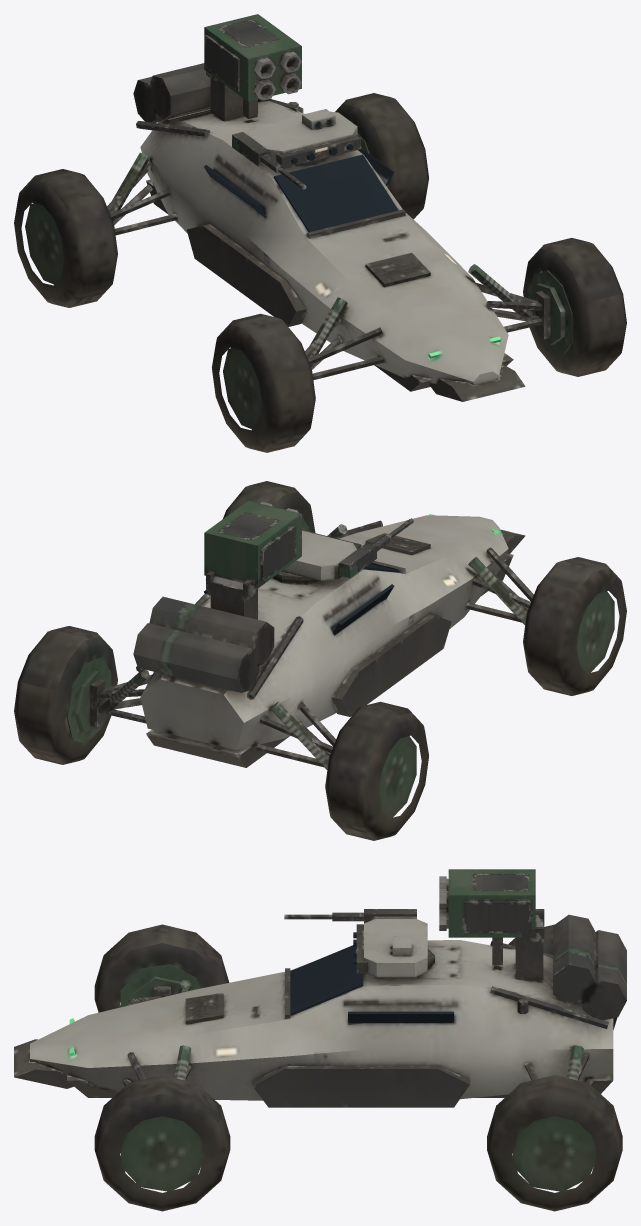
File: hs_jackal_lod1.glb
3 views of the same model, one above another, from view 1: azimuth 30°, elevation 25°; view 2: azimuth 150°, elevation 25°; view 3: azimuth 270°, elevation 25° (orthographic).
Bounding box in the file's own units: 3.86 × 2.57 × 5.78.
Materials: 1 (1 with a texture image).
